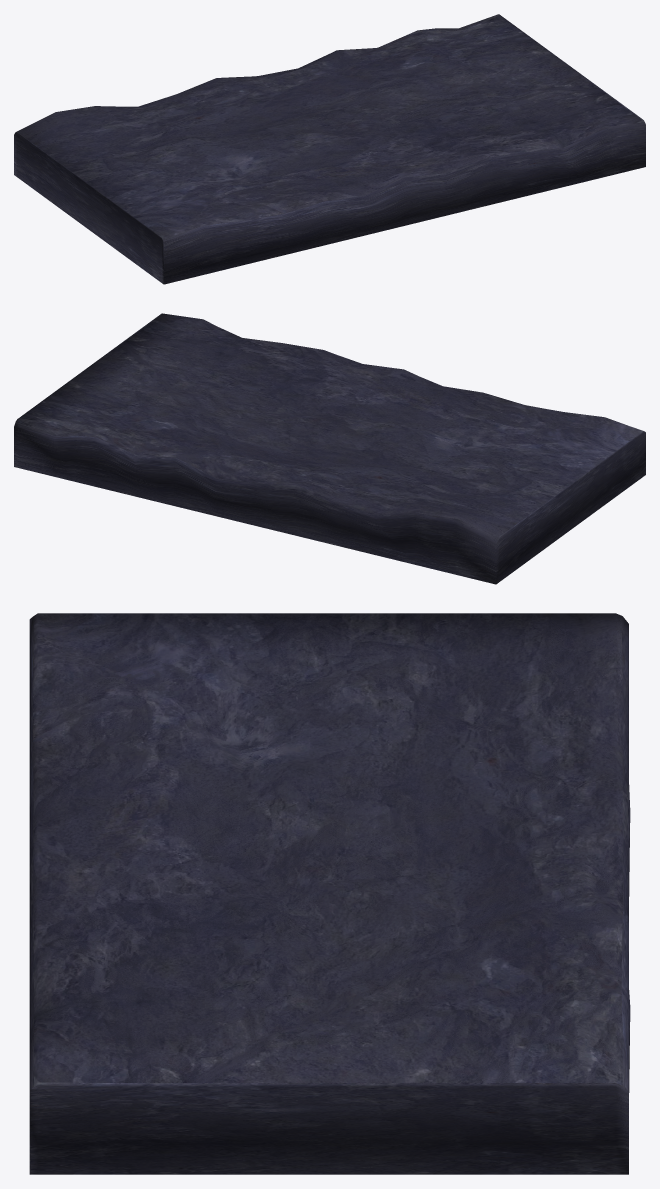
File: Cave1.fbx
3 views of the same model, one above another, from view 1: azimuth 30°, elevation 25°; view 2: azimuth 150°, elevation 25°; view 3: azimuth 270°, elevation 25° (orthographic). The views are drawn at different scales.
Parts seen in each view (by area): view 1: Пещера; view 2: Пещера; view 3: Пещера.
Part boxes in pixels (x1,y1,x2,y2): Пещера: [14, 14, 645, 284]; Пещера: [14, 313, 645, 584]; Пещера: [29, 613, 630, 1174].
Size of the model in its own units: 2225 by 244 by 1201.
